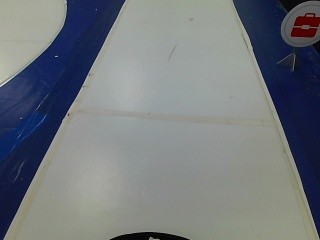company: (283, 8, 318, 48)
